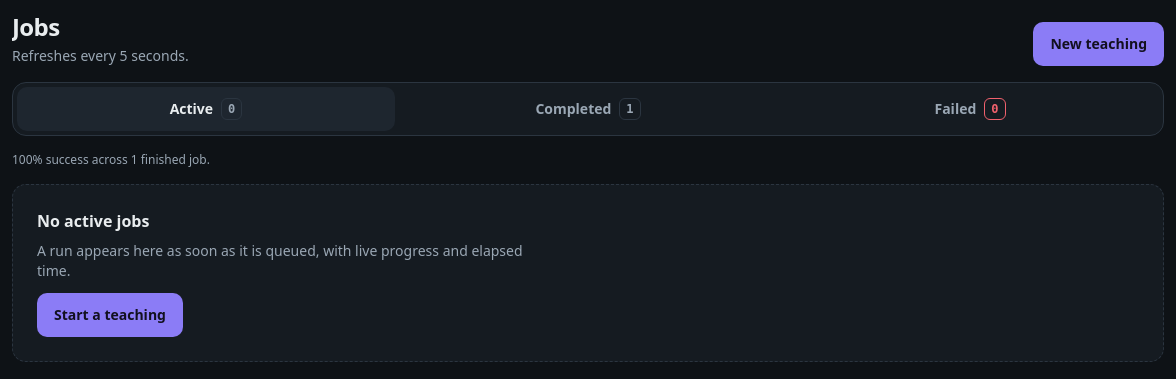
Test: Jobs rows › shows the reason on a cancelled row
What coordinates should you click on to do the following:
click the tab "Completed 1"
I would click on:
 (588, 109)
Its box is x1=399 y1=87 x2=777 y2=131.
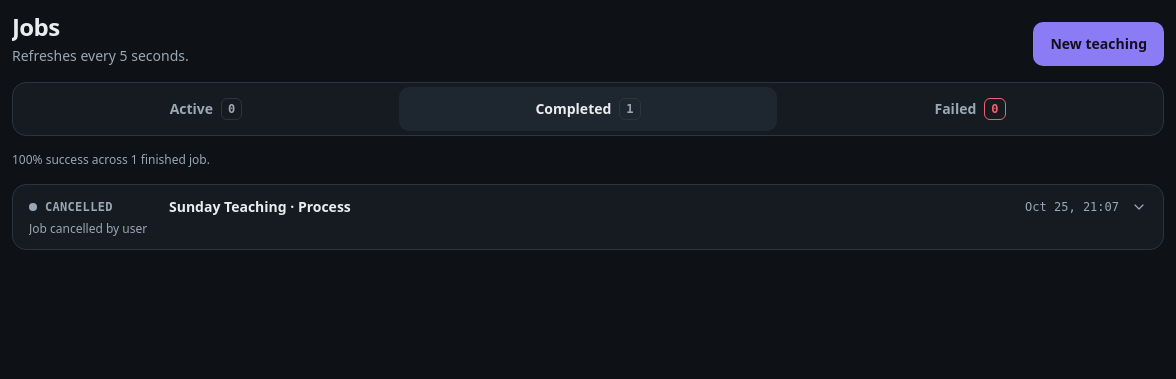
expect the text "CANCELLED" is shown: met, box x1=45 y1=199 x2=113 y2=215
expect the text "Job cancelled by user" is shown: met, box x1=29 y1=220 x2=147 y2=237
